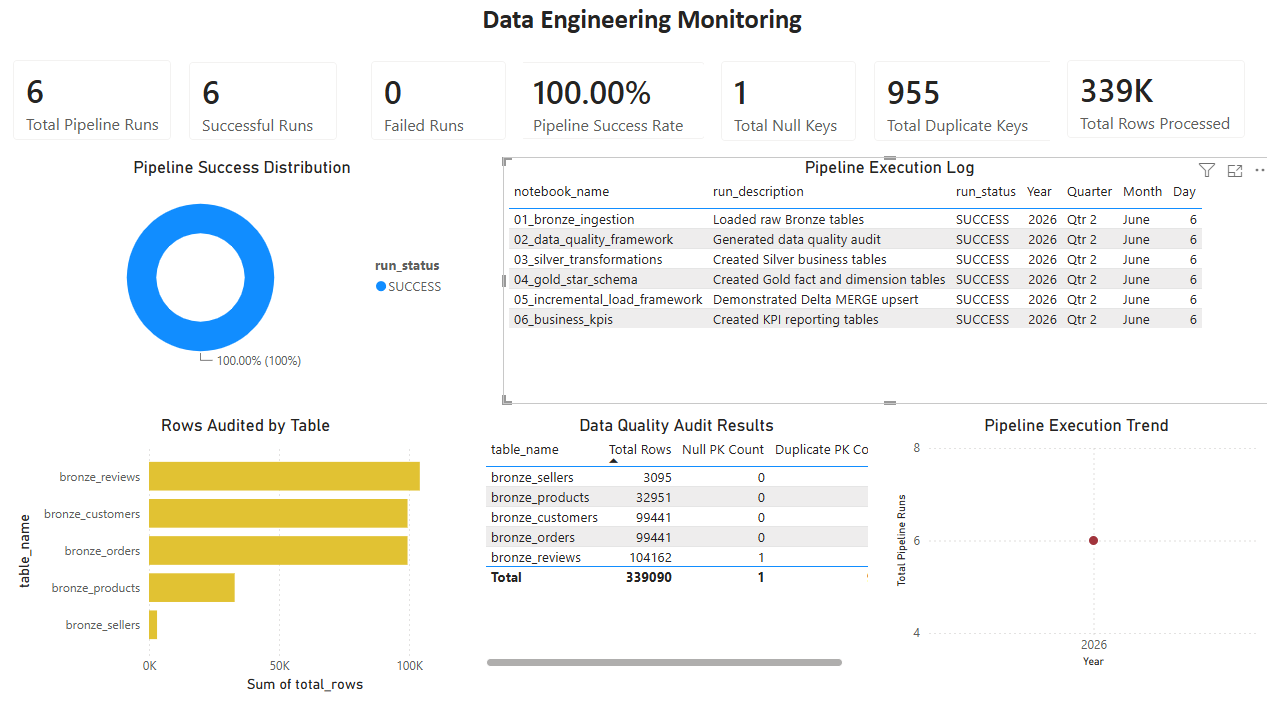

What the dashboard file says about the page in this screenshot:
{"tool":"powerbi","page":{"name":"Data Engineering Monitoring","canvas":[1280,720],"ordinal":3},"visuals":[{"type":"cardVisual","fields":{"Data":["pipeline_run_log.Total Pipeline Runs"]},"box":[0,45,192,114],"z":0},{"type":"cardVisual","fields":{"Data":["pipeline_run_log.Pipeline Success Rate"]},"box":[507,47,219,111],"z":1000},{"type":"cardVisual","fields":{"Data":["pipeline_run_log.Successful Runs"]},"box":[176,47,182,112],"z":2000},{"type":"cardVisual","fields":{"Data":["data_quality_audit.Total Null Keys"]},"box":[708,46,169,114],"z":3000},{"type":"cardVisual","fields":{"Data":["data_quality_audit.Total Duplicate Keys"]},"box":[861,46,220,114],"z":4000},{"type":"donutChart","title":"Pipeline Success Distribution","fields":{"Y":["CountNonNull(pipeline_run_log.notebook_name)"],"Category":["pipeline_run_log.run_status"]},"box":[25,159,442,222],"z":5000},{"type":"tableEx","title":"Pipeline Execution Log","fields":{"Values":["pipeline_run_log.notebook_name","pipeline_run_log.run_description","pipeline_run_log.run_status","pipeline_run_log.run_timestamp.Variation.Date Hierarchy.Year","pipeline_run_log.run_timestamp.Variation.Date Hierarchy.Quarter","pipeline_run_log.run_timestamp.Variation.Date Hierarchy.Month","pipeline_run_log.run_timestamp.Variation.Date Hierarchy.Day"]},"box":[507,159,773,247],"z":6000},{"type":"tableEx","title":"Data Quality Audit Results","fields":{"Values":["data_quality_audit.table_name","Sum(data_quality_audit.total_rows)","Sum(data_quality_audit.null_primary_keys)","Sum(data_quality_audit.duplicate_primary_keys)","select"]},"box":[484,417,393,257],"z":7000},{"type":"clusteredBarChart","title":"Rows Audited by Table","fields":{"Category":["data_quality_audit.table_name"],"Y":["Sum(data_quality_audit.total_rows)"]},"box":[15,417,469,282],"z":8000},{"type":"cardVisual","fields":{"Data":["data_quality_audit.Total Rows Processed"]},"box":[1054,45,212,112],"z":9000},{"type":"lineChart","title":"Pipeline Execution Trend","fields":{"Category":["pipeline_run_log.run_timestamp.Variation.Date Hierarchy.Year","pipeline_run_log.run_timestamp.Variation.Date Hierarchy.Quarter","pipeline_run_log.run_timestamp.Variation.Date Hierarchy.Month","pipeline_run_log.run_timestamp.Variation.Date Hierarchy.Day"],"Y":["pipeline_run_log.Total Pipeline Runs"]},"box":[895,417,371,257],"z":10000},{"type":"cardVisual","fields":{"Data":["pipeline_run_log.Failed Runs"]},"box":[358,46,169,113],"z":11000},{"type":"textbox","box":[100,0,1092,59],"z":11001}]}

Visuals, with their boxes in screenshot pixels (x1, y1, x2, y2), scaled from the page's 1280x720 canvas onto the 1267x711 screenshot:
cardVisual - pipeline_run_log.Total Pipeline Runs: bbox=(0, 44, 190, 157)
cardVisual - pipeline_run_log.Pipeline Success Rate: bbox=(502, 46, 719, 156)
cardVisual - pipeline_run_log.Successful Runs: bbox=(174, 46, 354, 157)
cardVisual - data_quality_audit.Total Null Keys: bbox=(701, 45, 868, 158)
cardVisual - data_quality_audit.Total Duplicate Keys: bbox=(852, 45, 1070, 158)
"Pipeline Success Distribution" donutChart: bbox=(25, 157, 462, 376)
"Pipeline Execution Log" tableEx: bbox=(502, 157, 1266, 401)
"Data Quality Audit Results" tableEx: bbox=(479, 412, 868, 666)
"Rows Audited by Table" clusteredBarChart: bbox=(15, 412, 479, 690)
cardVisual - data_quality_audit.Total Rows Processed: bbox=(1043, 44, 1253, 155)
"Pipeline Execution Trend" lineChart: bbox=(886, 412, 1253, 666)
cardVisual - pipeline_run_log.Failed Runs: bbox=(354, 45, 522, 157)
textbox: bbox=(99, 0, 1180, 58)
